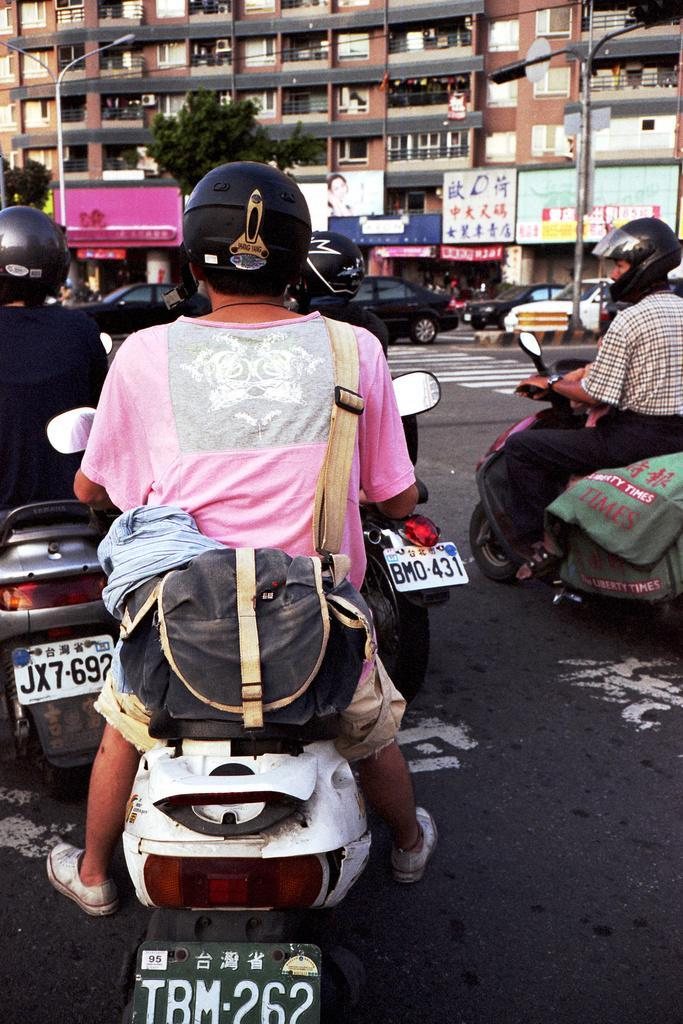helmet: (180, 158, 314, 290), (589, 215, 683, 305), (0, 203, 74, 307), (289, 228, 366, 310)
